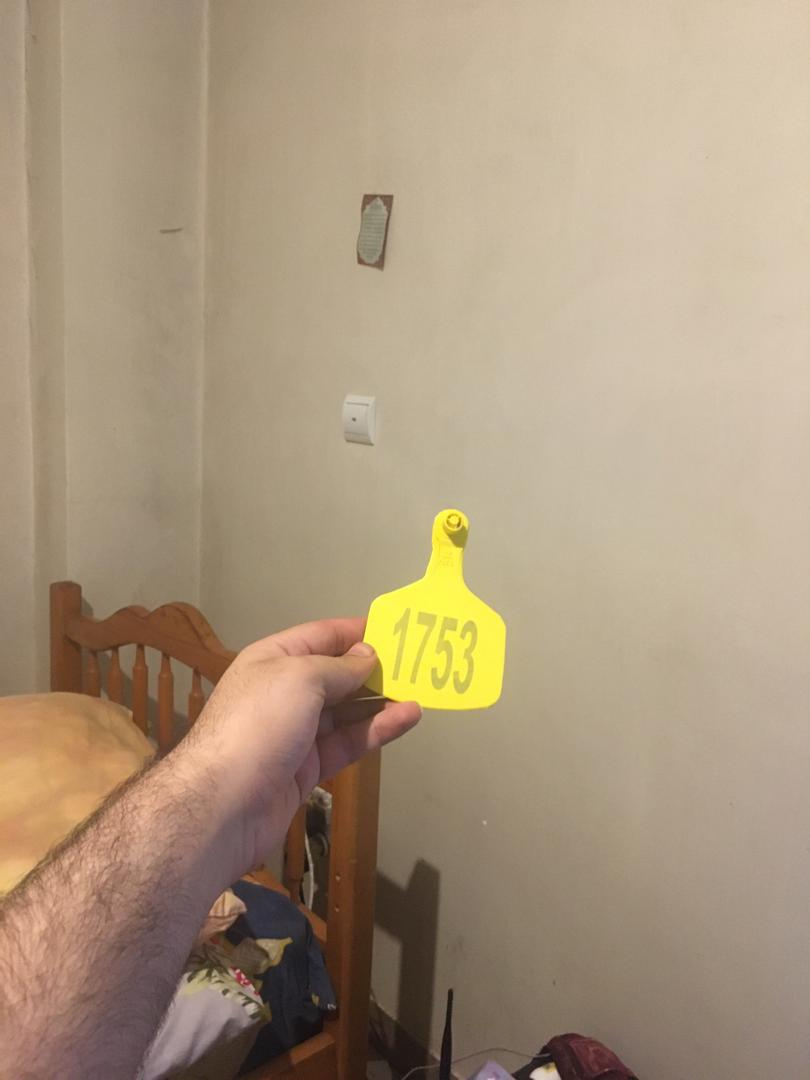digit: (389, 602, 483, 693)
